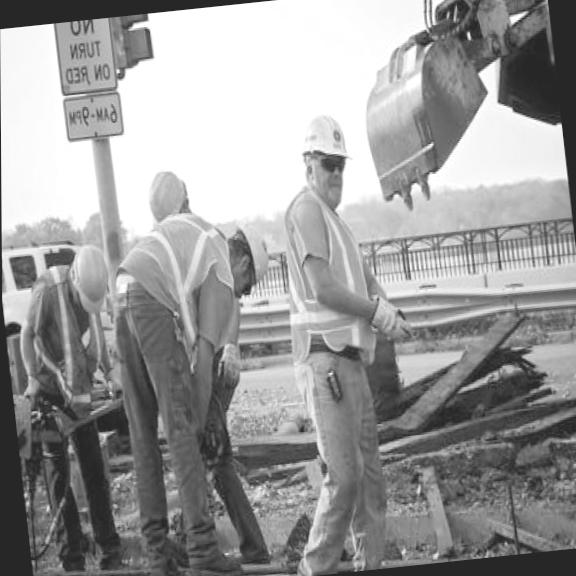safety_vest: (109, 212, 243, 371), (270, 177, 381, 367), (15, 254, 115, 422)
